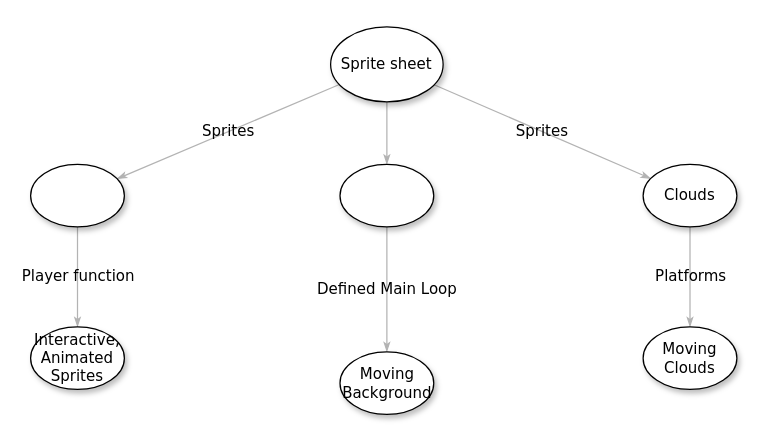
This 766x445 diagram has some shape labels left out. Here are the shapes that lost their labels. From the top down, the centre of each, then its label:
At [78,197]: "Stars".
At [387,197]: "Background".
